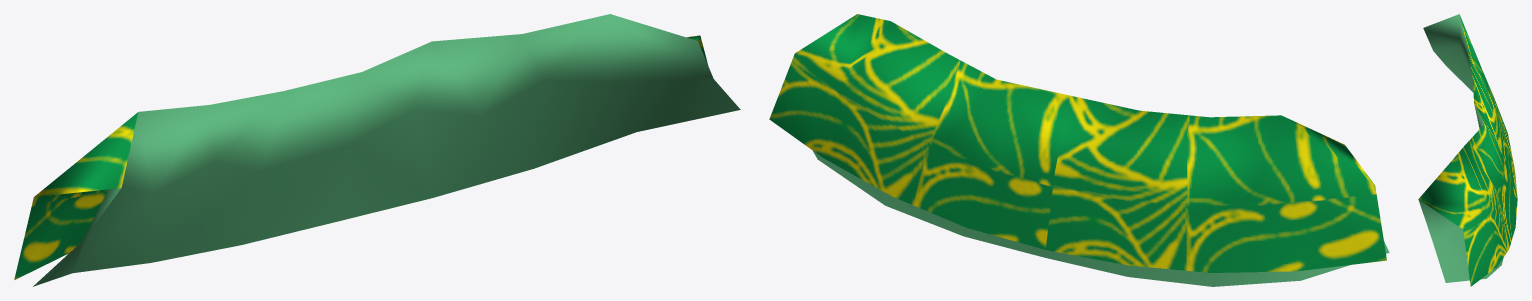
The model's file is Kerah.fbx.
The picture shows the model from 3 angles, left to right: view 1: azimuth 30°, elevation 25°; view 2: azimuth 150°, elevation 25°; view 3: azimuth 270°, elevation 25°; orthographic projection. The views are drawn at different scales.
Visible parts, largest first — view 1: Kerah.002; view 2: Kerah.002; view 3: Kerah.002.
Boxes of the visible parts, box(x1,y1,x2,y2) form: Kerah.002: box(14, 14, 740, 286); Kerah.002: box(769, 14, 1389, 286); Kerah.002: box(1418, 14, 1517, 286).
Size of the model in its own units: 145 by 37.87 by 27.34.
Materials: 2 (1 with a texture image).
